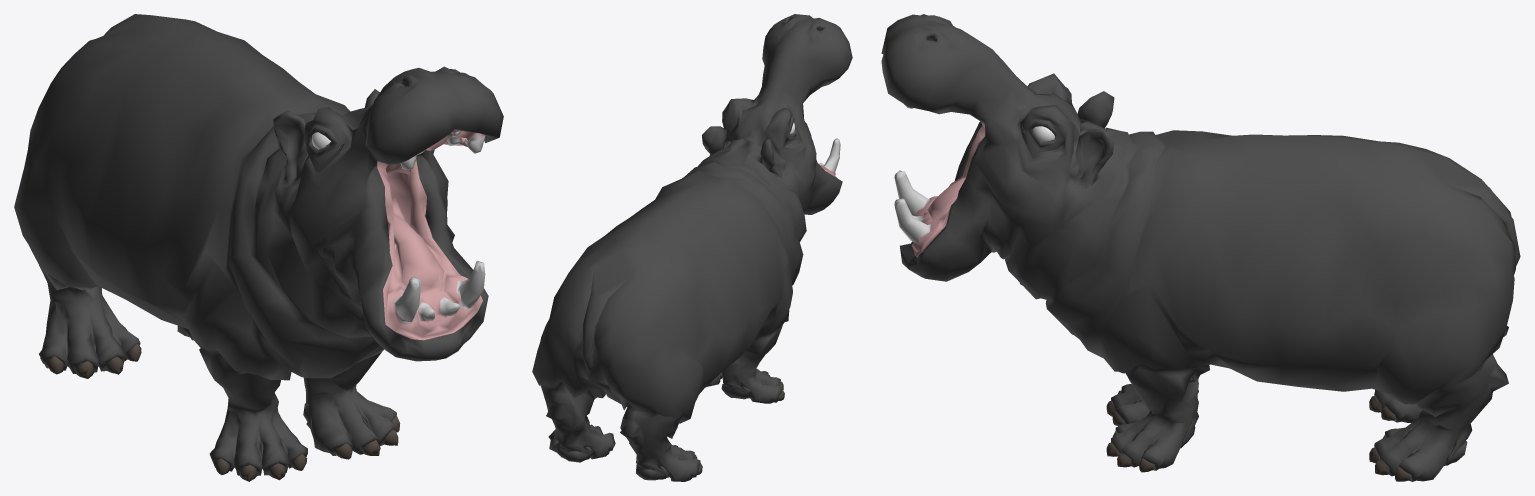
File: Noshorn.fbx
The picture shows the model from 3 angles, left to right: view 1: azimuth 30°, elevation 25°; view 2: azimuth 150°, elevation 25°; view 3: azimuth 270°, elevation 25°; orthographic projection. The views are drawn at different scales.
Parts seen in each view (by area): view 1: Hippopotamus 01.lxl (2); view 2: Hippopotamus 01.lxl (2); view 3: Hippopotamus 01.lxl (2).
Part boxes in pixels (box(x1,y1,x2,y2)): Hippopotamus 01.lxl (2): box(14, 14, 503, 481); Hippopotamus 01.lxl (2): box(532, 14, 852, 481); Hippopotamus 01.lxl (2): box(881, 14, 1520, 481).
Bounding box in the file's own units: 119 × 228 × 317.
